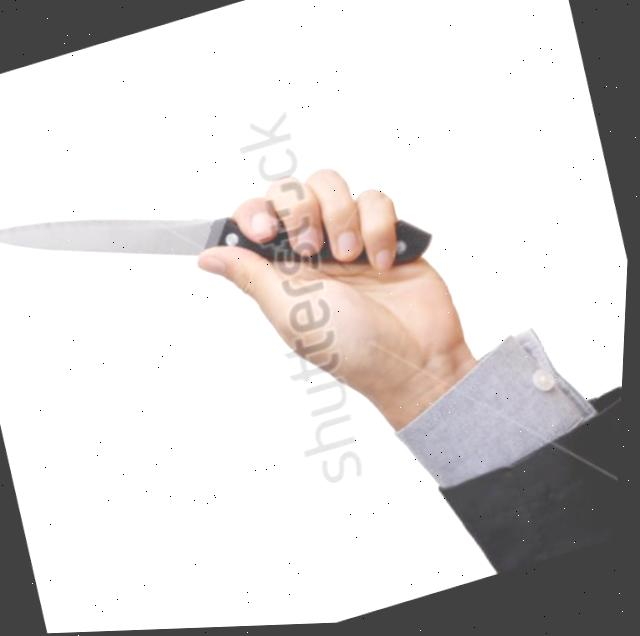pocket-knife: (0, 120, 374, 366)
